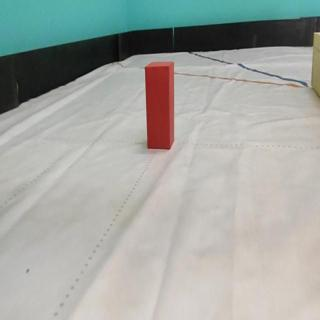redbox: (145, 60, 174, 149)
